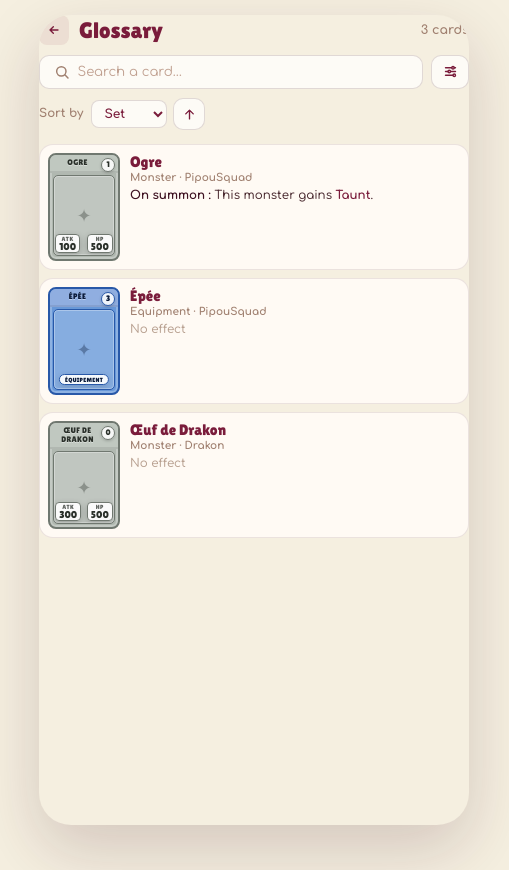
Test case: CardGlossary › suit la langue choisie
Expected: the button with aria-label "View Ogre" is shown, [39,144,469,270]
Expected: the heading "Glossary" is shown, [79,17,163,43]
Click the button named "Filters".
click(450, 72)  # box [431,55,469,89]
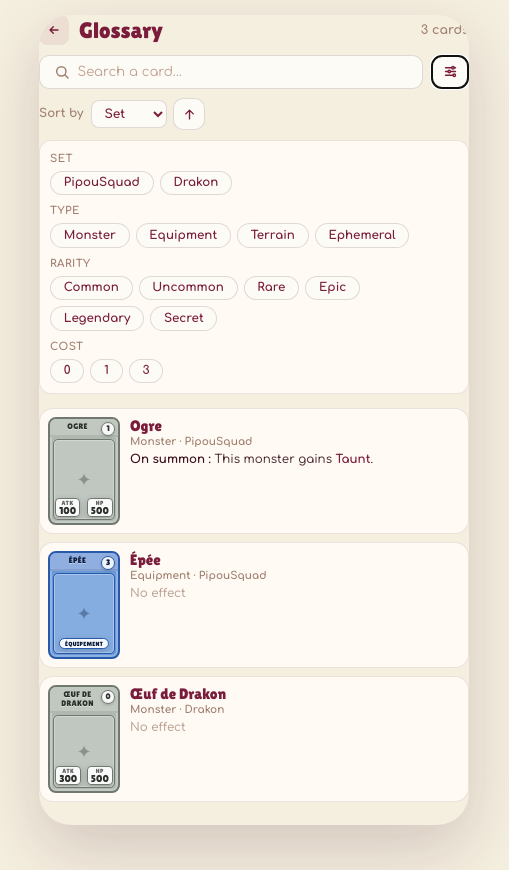
Expected: the text "No effect" is shown 2 times, [130,587,186,600]; [130,721,186,734]
Expected: the button "Equipment" is shown, [136,223,231,248]
